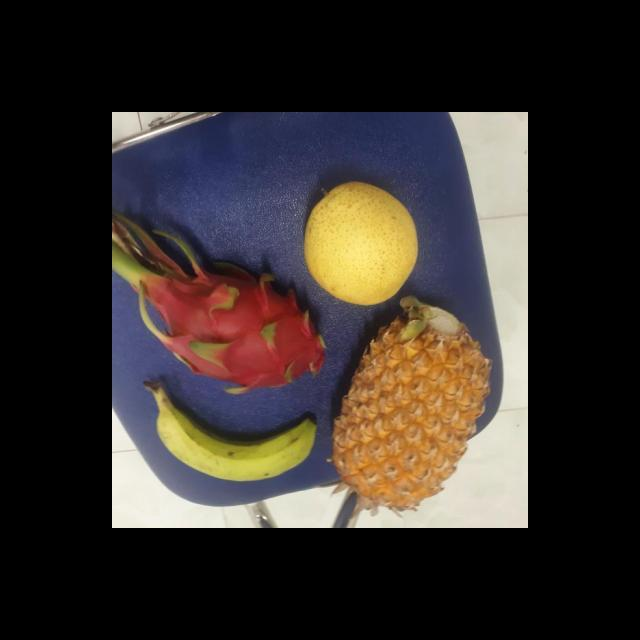banana: (151, 389, 322, 480)
pear: (303, 182, 423, 304)
pineapple: (341, 304, 497, 510)
pitaya: (140, 268, 339, 394)
